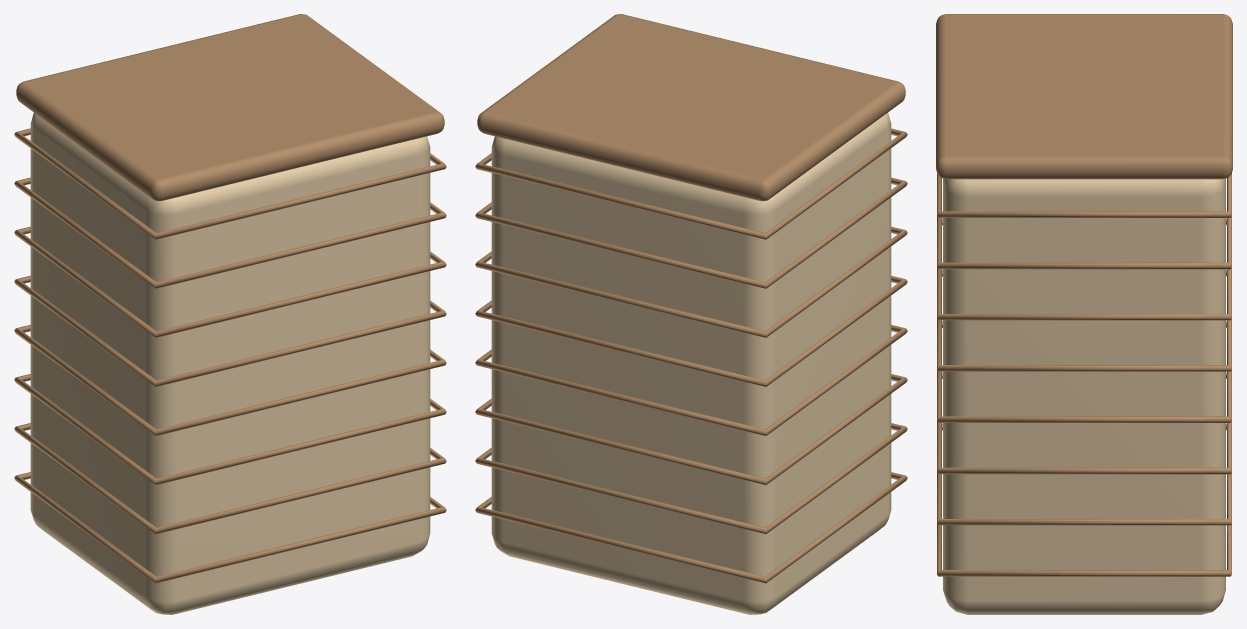
File: atelier-laundry-hamper.glb
3 views of the same model, side by side, from view 1: azimuth 30°, elevation 25°; view 2: azimuth 150°, elevation 25°; view 3: azimuth 270°, elevation 25° (orthographic). The views are drawn at different scales.
Parts seen in each view (by area): view 1: accent.011, legs.049; view 2: accent.011, legs.049; view 3: accent.011, legs.049.
Part boxes in pixels (x1,y1,x2,y2): accent.011: [30, 113, 430, 614]; legs.049: [14, 14, 446, 583]; accent.011: [491, 113, 891, 614]; legs.049: [475, 14, 907, 583]; accent.011: [943, 178, 1225, 614]; legs.049: [936, 14, 1232, 576].
Bounding box in the file's own units: 0.5 × 0.7275 × 0.42.
